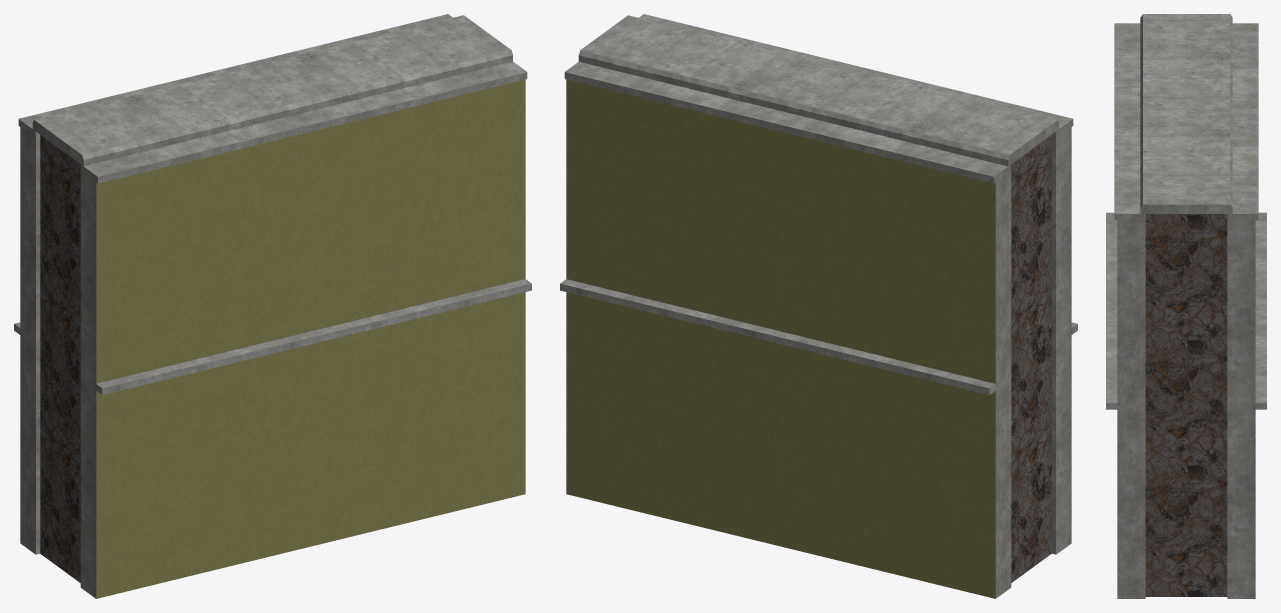
Rendered from wall_large.glb.
3 renders of one model, left to right at view 1: azimuth 30°, elevation 25°; view 2: azimuth 150°, elevation 25°; view 3: azimuth 270°, elevation 25°, orthographic. The views are drawn at different scales.
Visible parts, largest first — view 1: WallLarge; view 2: WallLarge; view 3: WallLarge.
Part boxes in pixels (x1,y1,x2,y2): WallLarge: (14,14,531,598); WallLarge: (560,14,1077,598); WallLarge: (1106,14,1266,598).
Bounding box in the file's own units: 4.32 × 4.17 × 1.54.
Materials: 1 (1 with a texture image).
